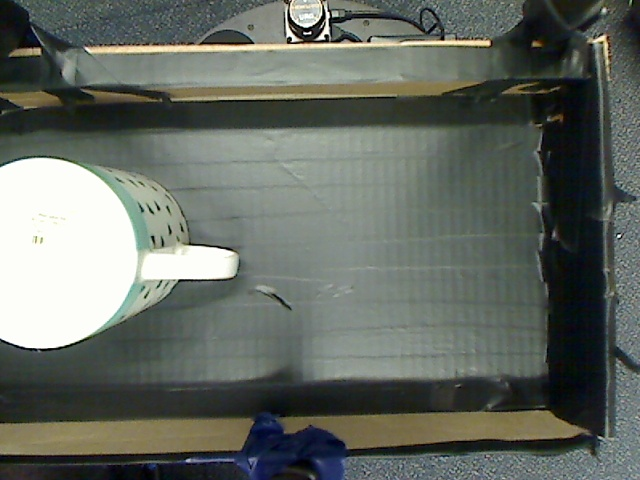mug: (1, 148, 246, 357)
